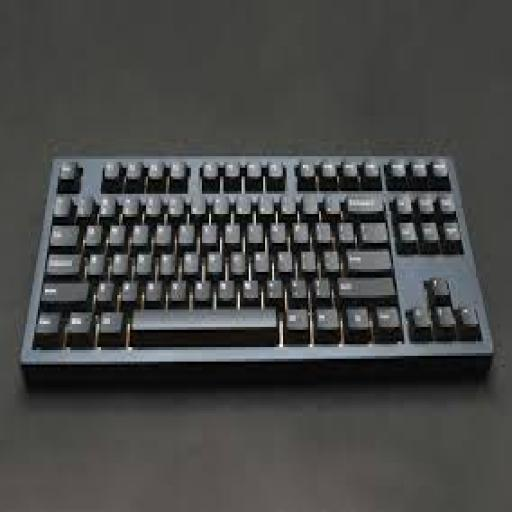keyboard: (20, 153, 494, 382)
